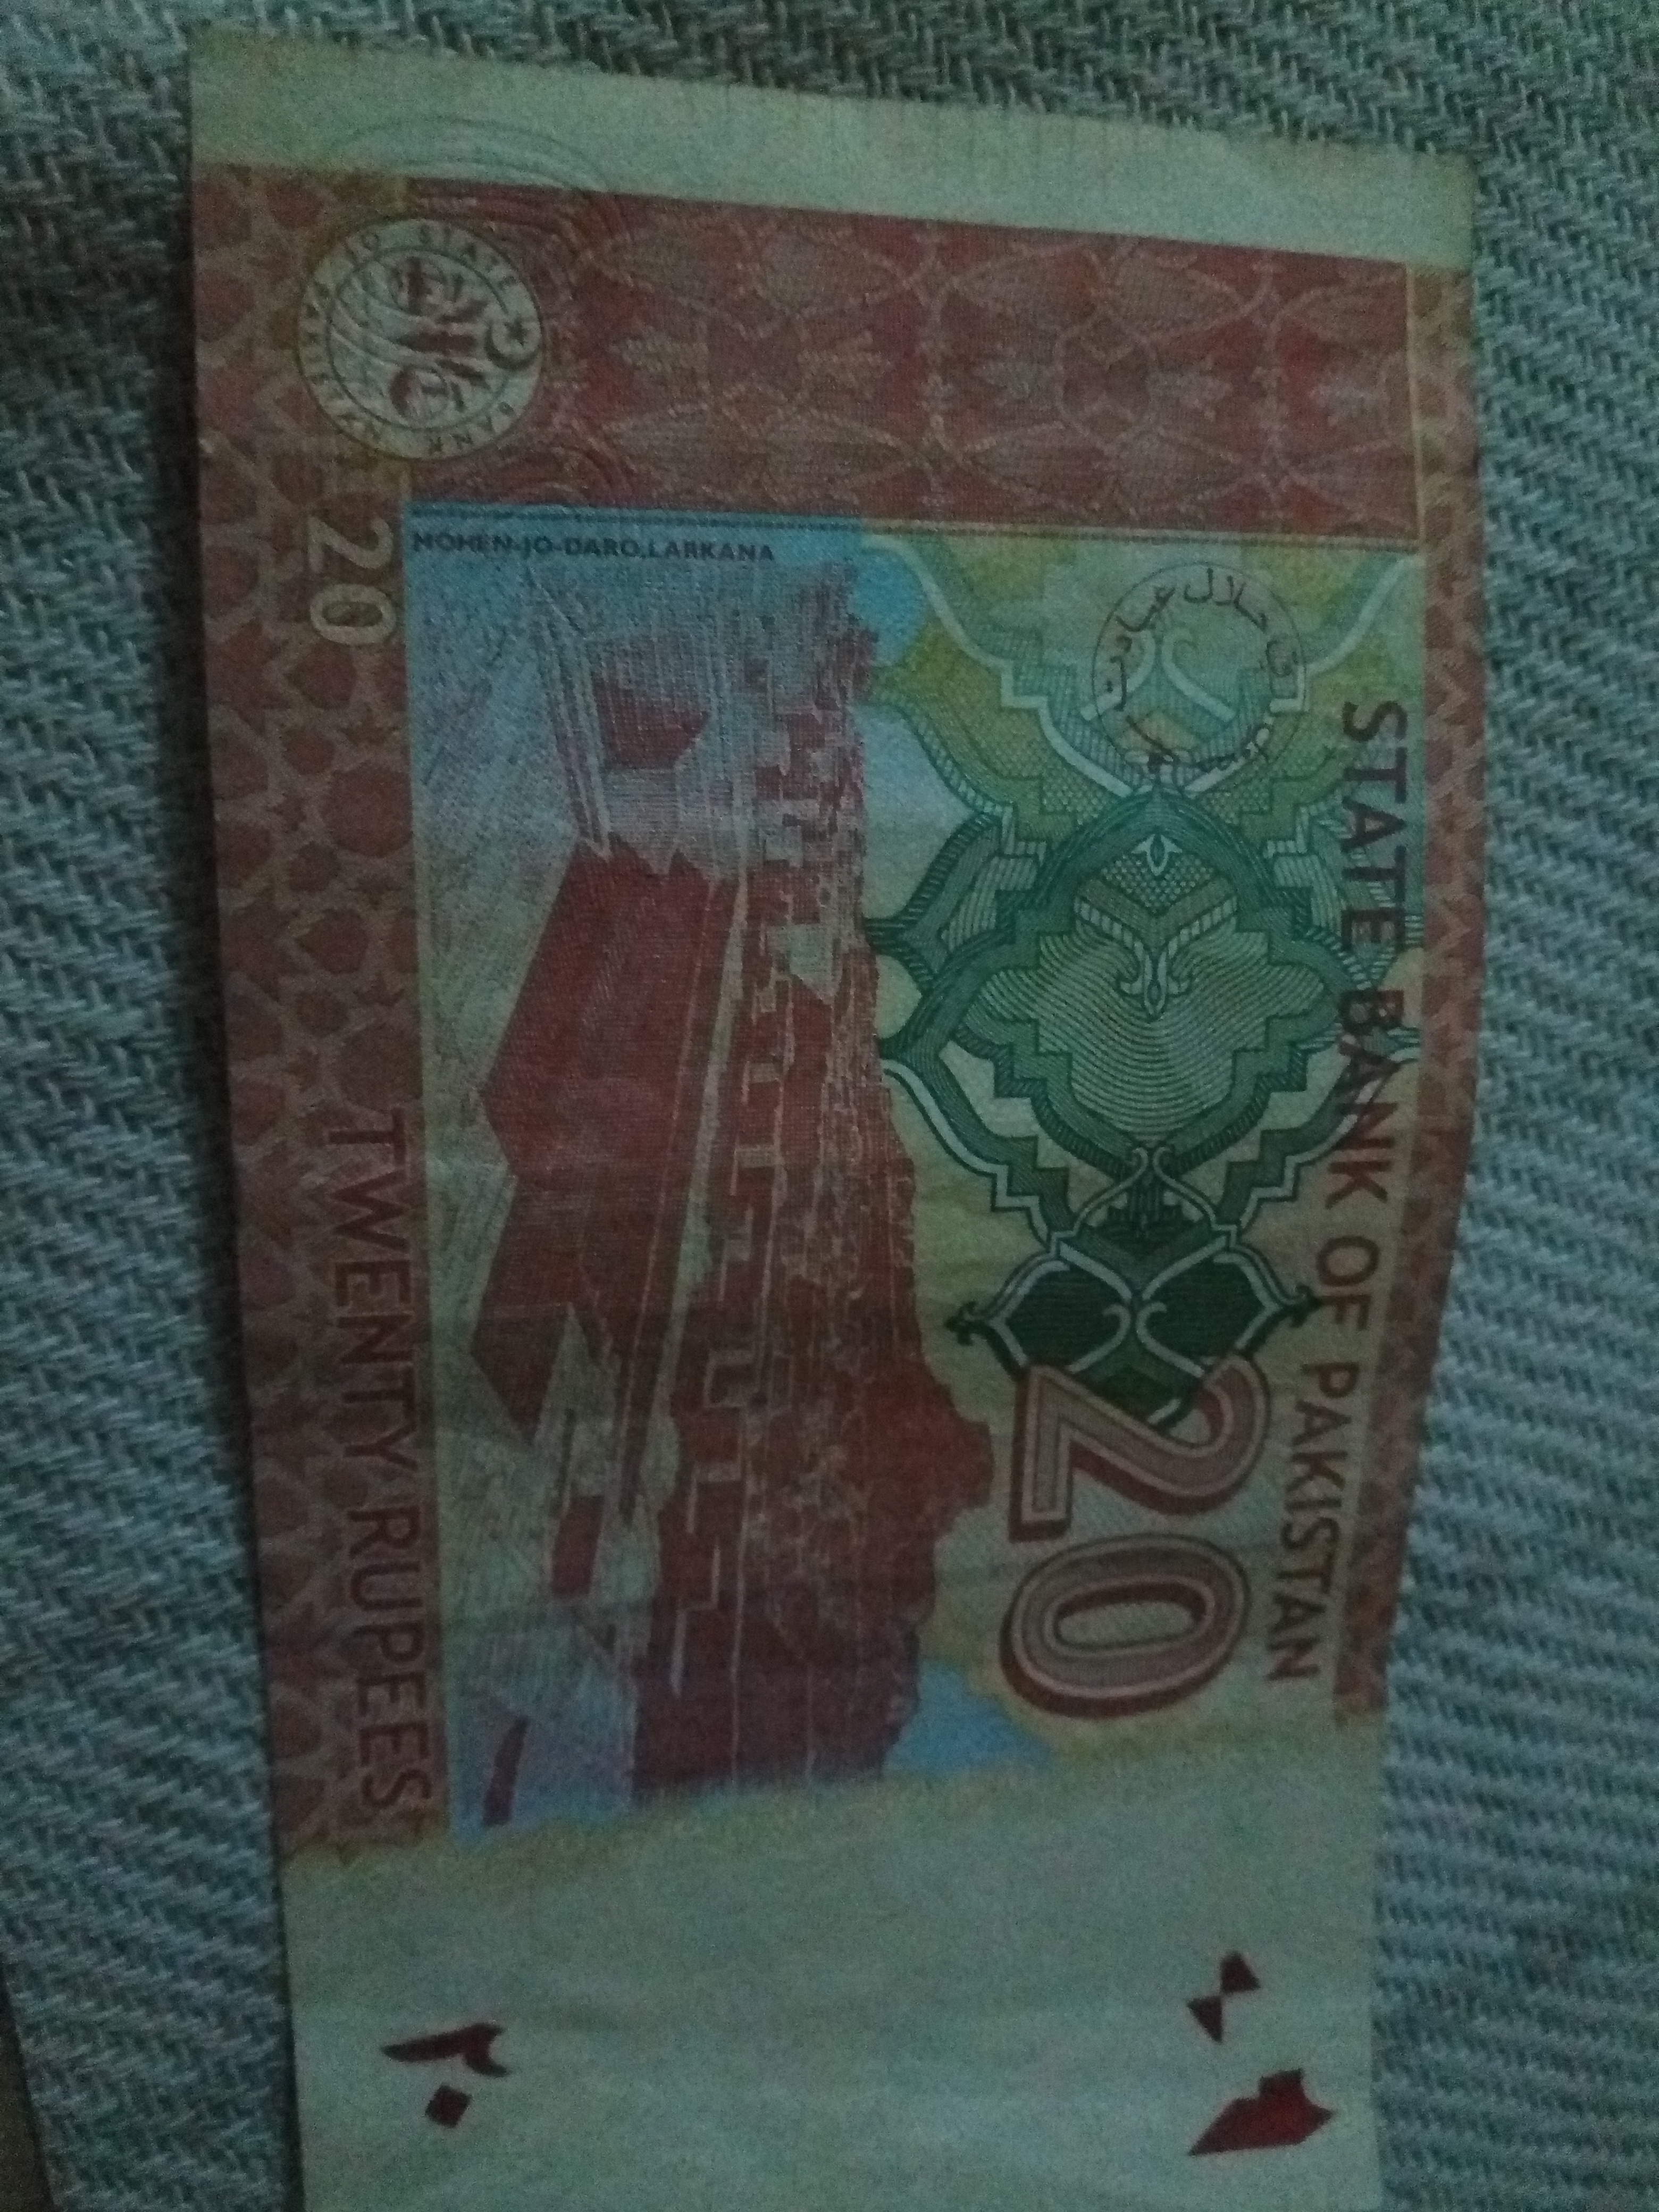20 rupee: (110, 56, 1507, 2165)
